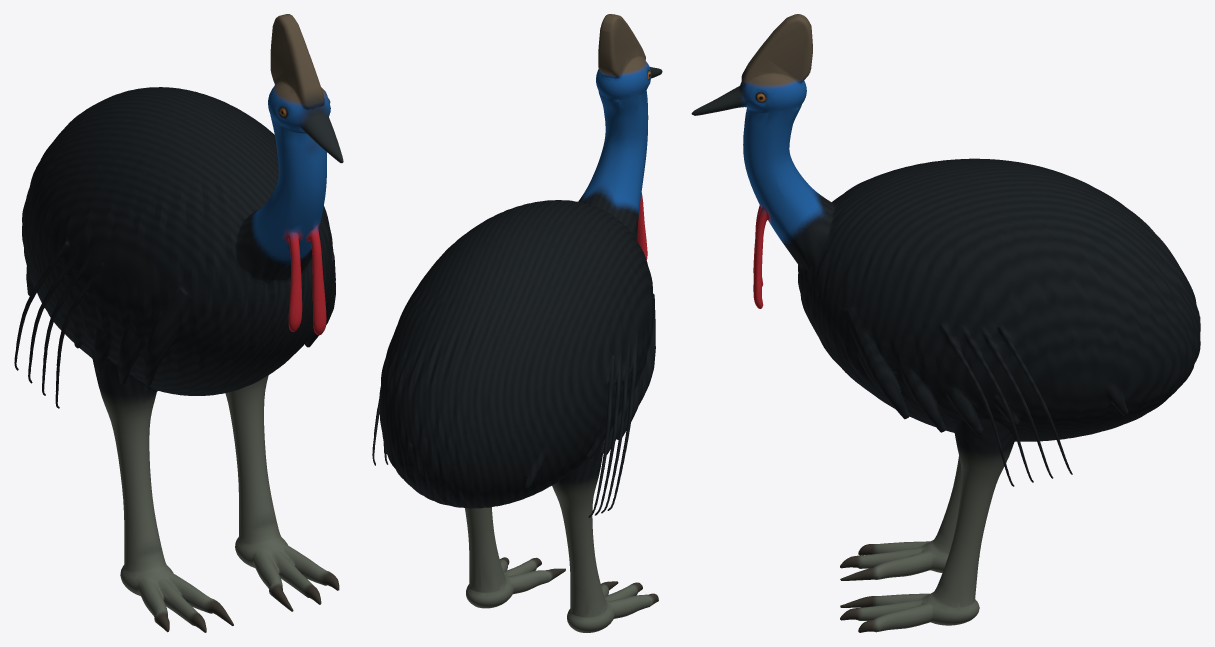
Rendered from NEW449_Southern_Cassowary_LOD0.glb.
3 renders of one model, left to right at view 1: azimuth 30°, elevation 25°; view 2: azimuth 150°, elevation 25°; view 3: azimuth 270°, elevation 25°, orthographic. The views are drawn at different scales.
Visible parts, largest first — view 1: NEW449_Southern_Cassowary_LOD0; view 2: NEW449_Southern_Cassowary_LOD0; view 3: NEW449_Southern_Cassowary_LOD0.
Boxes of the visible parts, bbox=[...] form: NEW449_Southern_Cassowary_LOD0: bbox=[14, 14, 343, 632]; NEW449_Southern_Cassowary_LOD0: bbox=[372, 14, 662, 632]; NEW449_Southern_Cassowary_LOD0: bbox=[691, 14, 1200, 632].
Size of the model in its own units: 0.717 by 1.65 by 1.31.
Materials: 1 (1 with a texture image).
